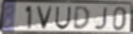0: (112, 6, 129, 32)
1: (24, 5, 34, 30)
D: (72, 5, 92, 31)
J: (93, 6, 109, 31)
U: (54, 6, 72, 31)
V: (35, 5, 55, 31)
